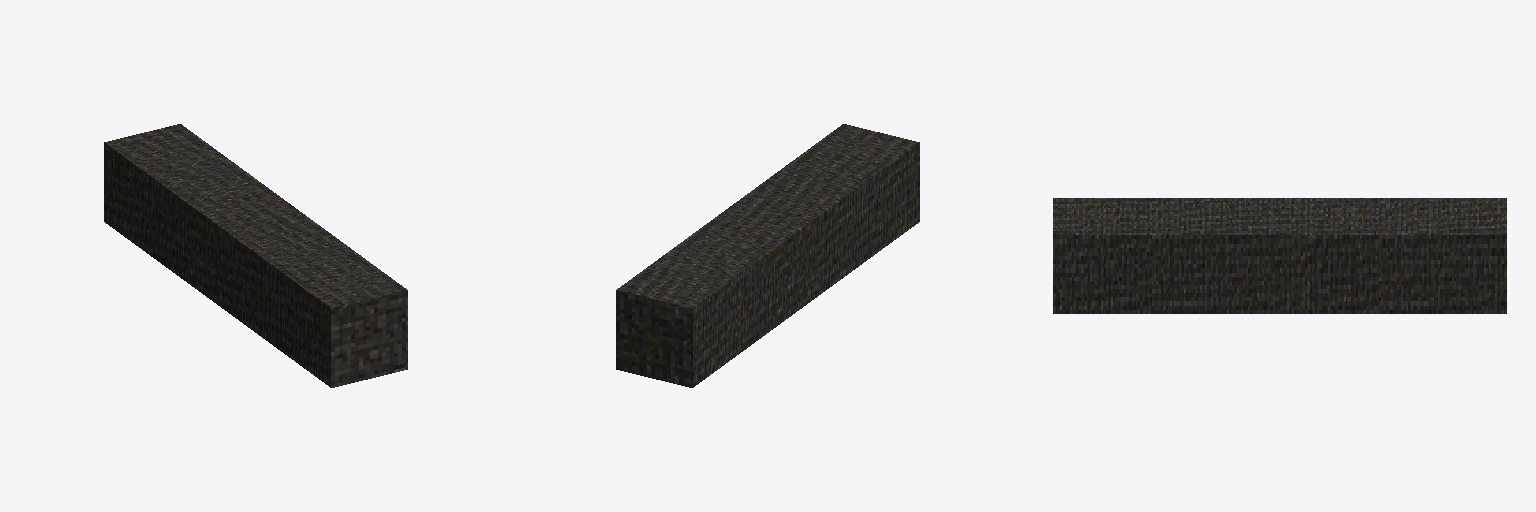
The picture shows the model from 3 angles: view 1: azimuth 30°, elevation 25°; view 2: azimuth 150°, elevation 25°; view 3: azimuth 270°, elevation 25°; orthographic projection.
Parts seen in each view (by area): view 1: Cube; view 2: Cube; view 3: Cube.
Part boxes in pixels (left/top/right/bottom): Cube: left=104, top=124, right=407, bottom=387; Cube: left=616, top=124, right=919, bottom=387; Cube: left=1053, top=198, right=1506, bottom=313.
Size of the model in its own units: 0.1567 by 0.1567 by 0.8092.
1 materials, 1 textured.